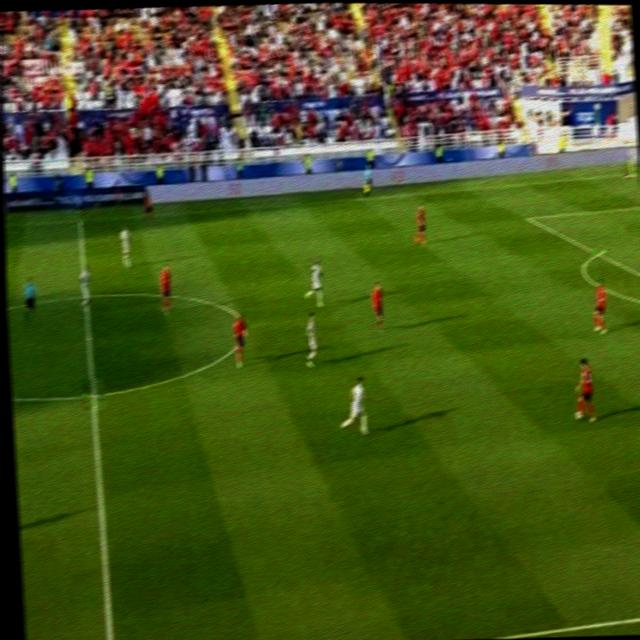bigarea_top_inner: (522, 209, 537, 225)
corner: (622, 164, 639, 178)
halfcircle_bottom: (80, 378, 106, 410)
midline_top_intersection: (70, 206, 87, 228)
top_arc_area_intersection: (589, 243, 606, 259)
